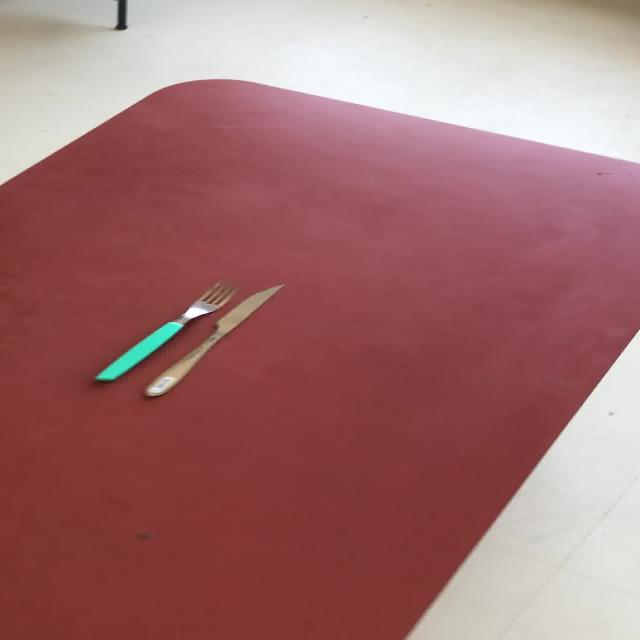fork: (142, 283, 283, 397), (93, 280, 236, 382)
knife fork: (142, 282, 283, 397)
